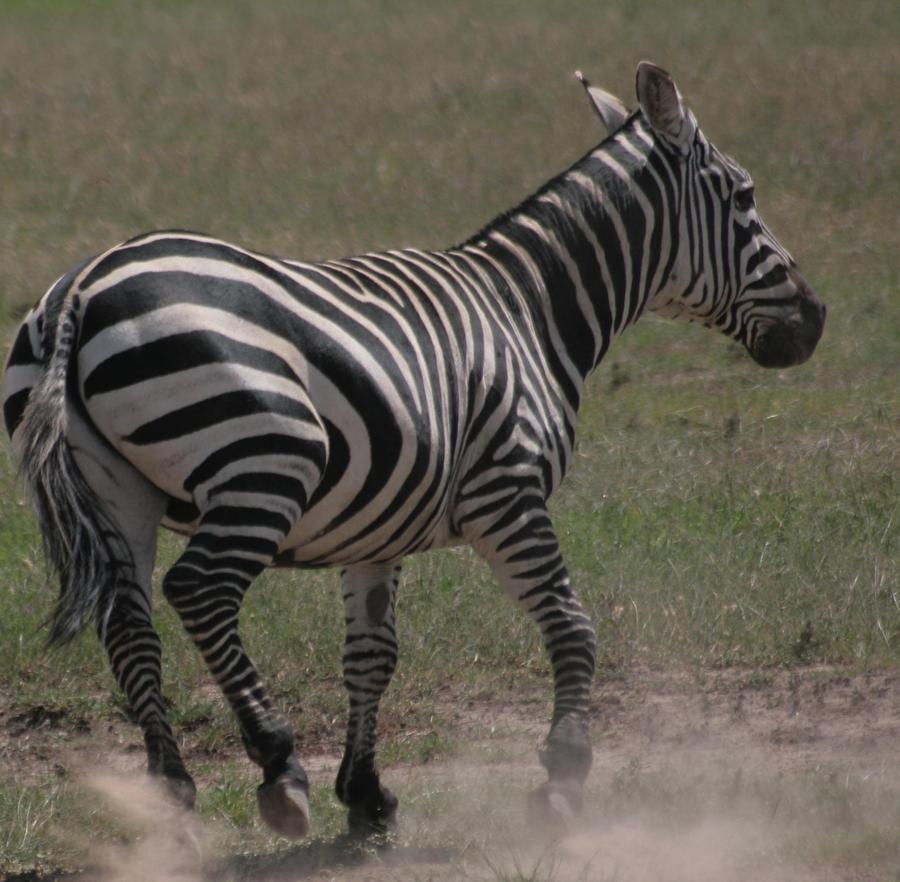zebra_plains: (154, 204, 575, 561)
